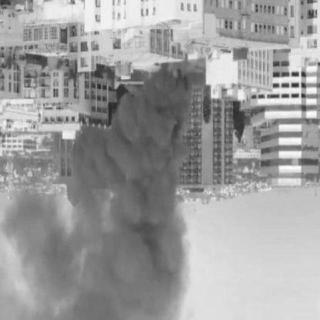Fire: (158, 62, 186, 88)
Smoke: (13, 99, 183, 317)
